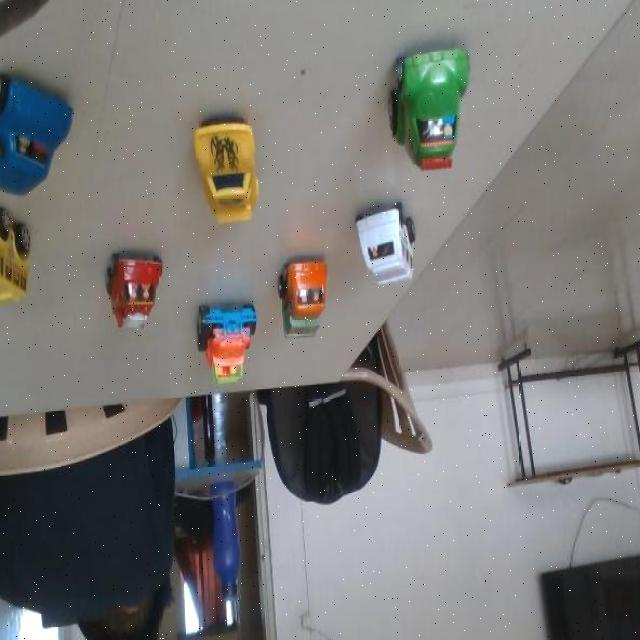car: (344, 0, 545, 215), (157, 86, 316, 232), (340, 178, 448, 310), (0, 74, 76, 192), (180, 295, 262, 401), (274, 240, 340, 358), (107, 240, 172, 332), (0, 207, 48, 300)
